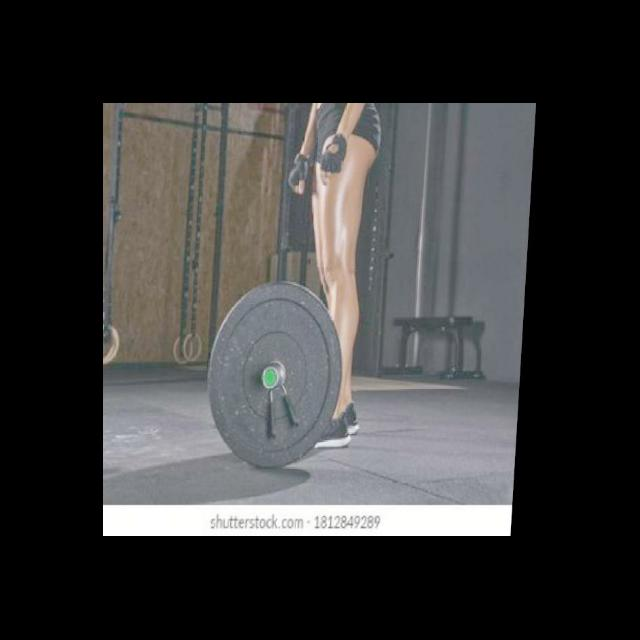barbell: (201, 279, 352, 473)
